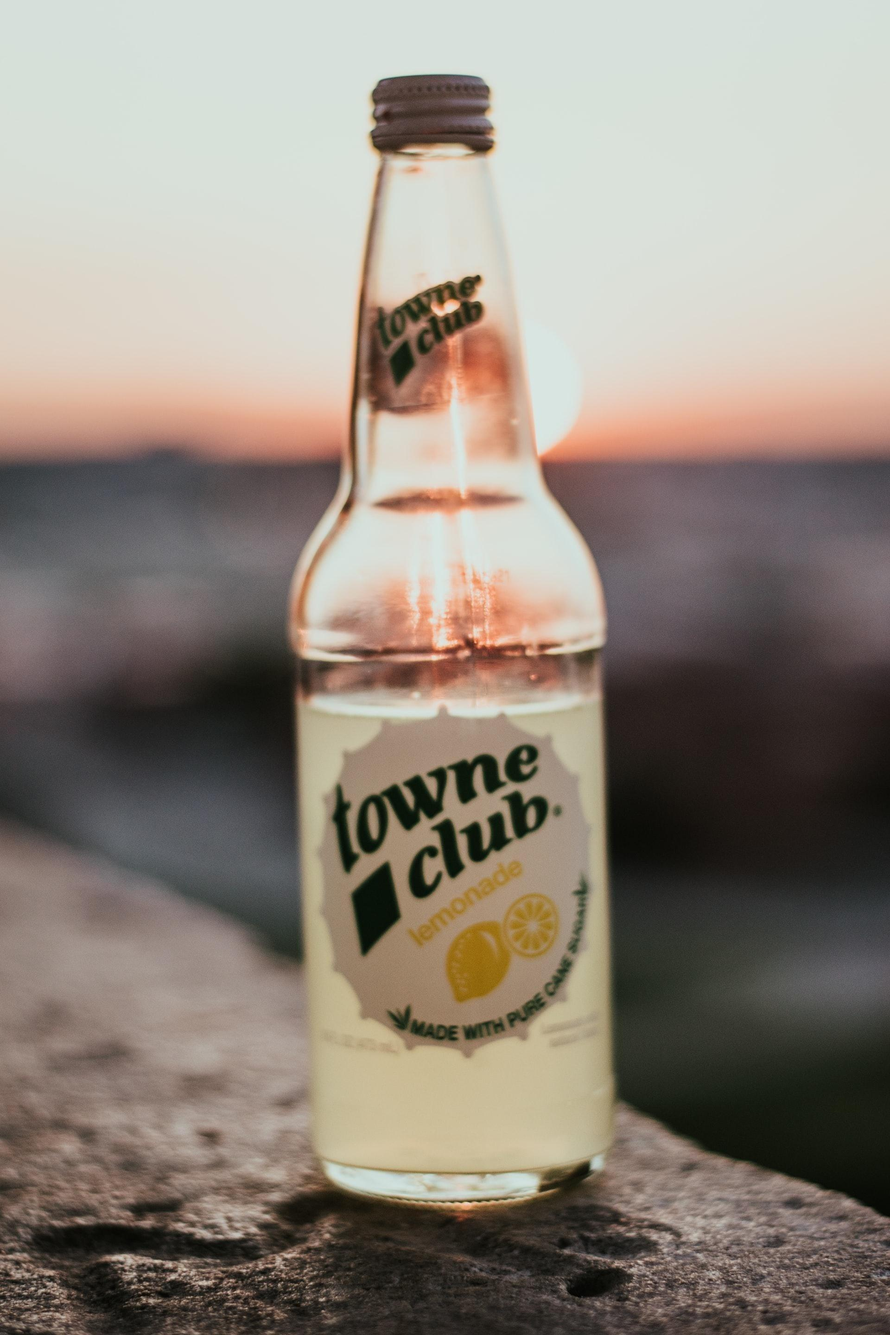bottle-glass: (288, 64, 621, 1214)
